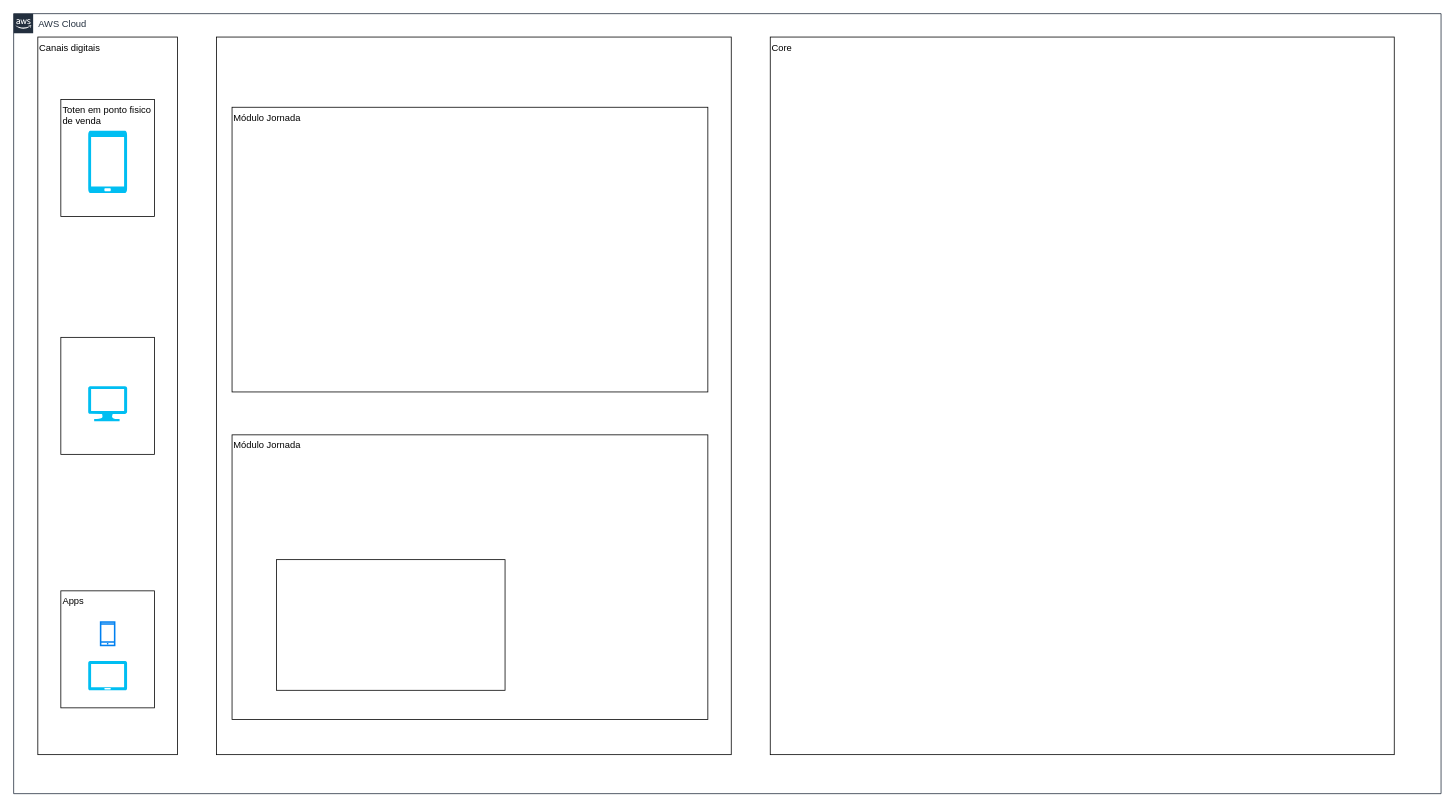
Image size: 1455x807. Some labels were removed from this diagram. Each missing label, with the box of its shape:
Camada Experiencia: (216, 36, 731, 755)
Fila Virtual: (276, 559, 505, 690)
Internet: (60, 337, 154, 454)
